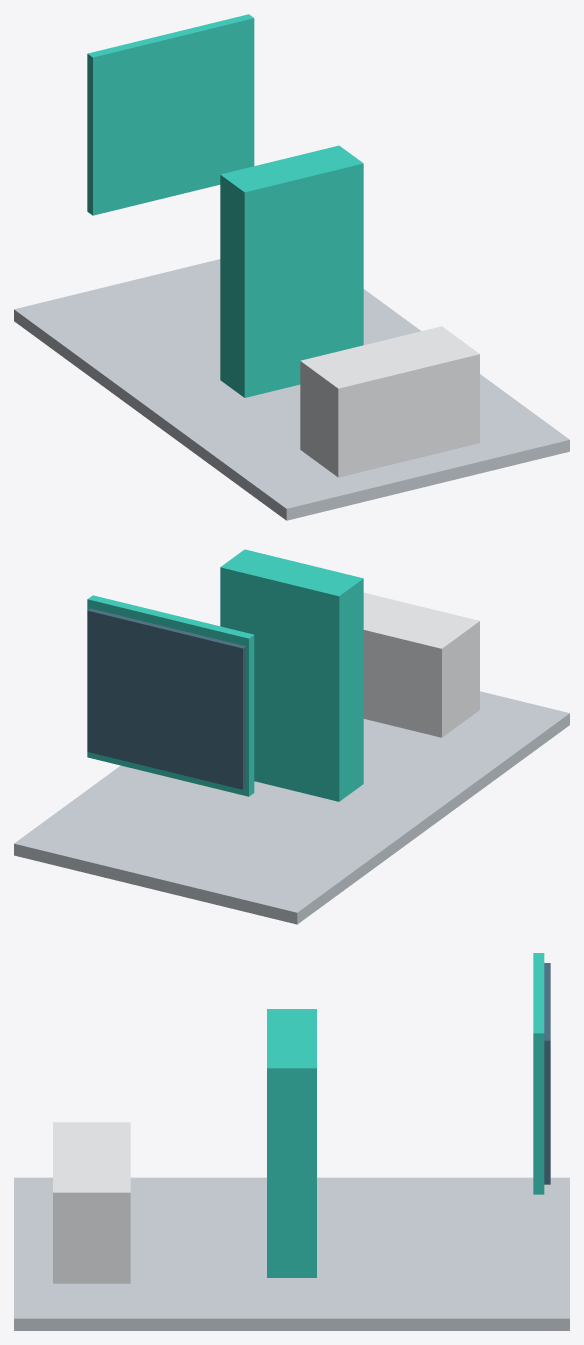
3 renders of one model, top to bottom at view 1: azimuth 30°, elevation 25°; view 2: azimuth 150°, elevation 25°; view 3: azimuth 270°, elevation 25°, orthographic.
Parts seen in each view (by area): view 1: Exhibition Booth Concept; view 2: Exhibition Booth Concept; view 3: Exhibition Booth Concept.
Boxes of the visible parts, left/top/right/bottom form: Exhibition Booth Concept: left=14, top=14, right=569, bottom=520; Exhibition Booth Concept: left=14, top=549, right=569, bottom=924; Exhibition Booth Concept: left=14, top=953, right=569, bottom=1330.
Size of the model in its own units: 3 by 2.65 by 5.
